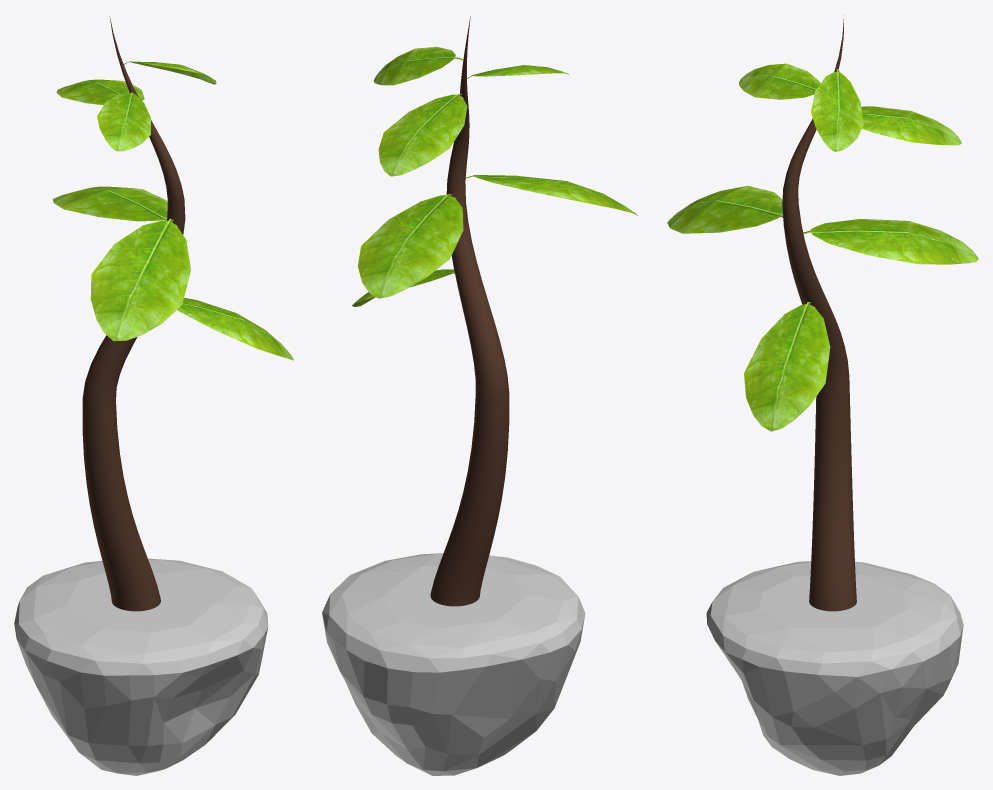
The model's file is Sapling.fbx.
The picture shows the model from 3 angles, left to right: view 1: azimuth 30°, elevation 25°; view 2: azimuth 150°, elevation 25°; view 3: azimuth 270°, elevation 25°; orthographic projection. The views are drawn at different scales.
Visible parts, largest first — view 1: Sphere, Plane, BezierCurve; view 2: Sphere, Plane, BezierCurve; view 3: Sphere, Plane, BezierCurve.
Part boxes in pixels (x1,y1,x2,y2): Sphere: (14,558,268,775); Plane: (52,61,293,360); BezierCurve: (82,16,185,611); Sphere: (322,553,585,775); Plane: (352,47,637,306); BezierCurve: (430,16,509,606); Sphere: (706,561,963,775); Plane: (667,63,978,431); BezierCurve: (782,14,856,611).
Size of the model in its own units: 31.07 by 94.69 by 35.89.
